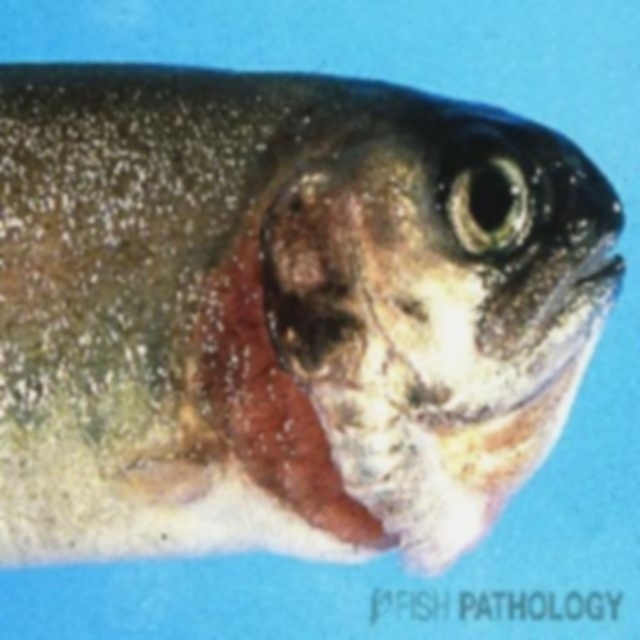Gill Disease: (1, 42, 628, 610)
